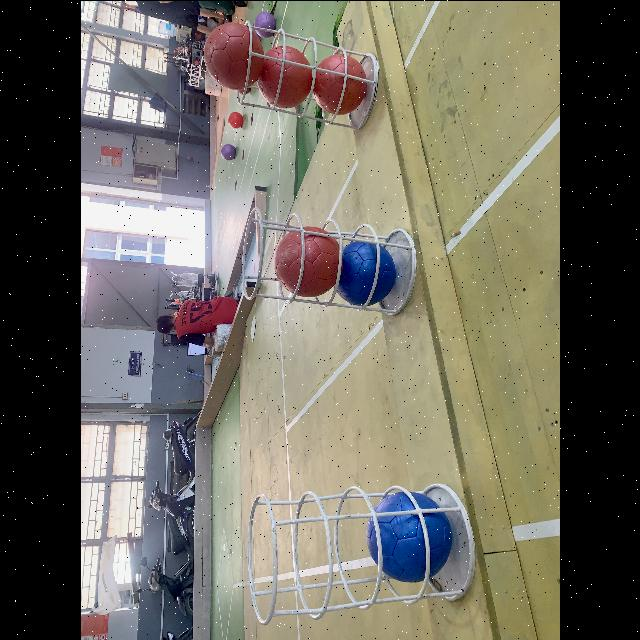B: (366, 491, 452, 584), (329, 241, 396, 305)
R: (271, 224, 339, 296), (202, 22, 266, 90), (257, 44, 313, 108), (312, 52, 366, 114)
